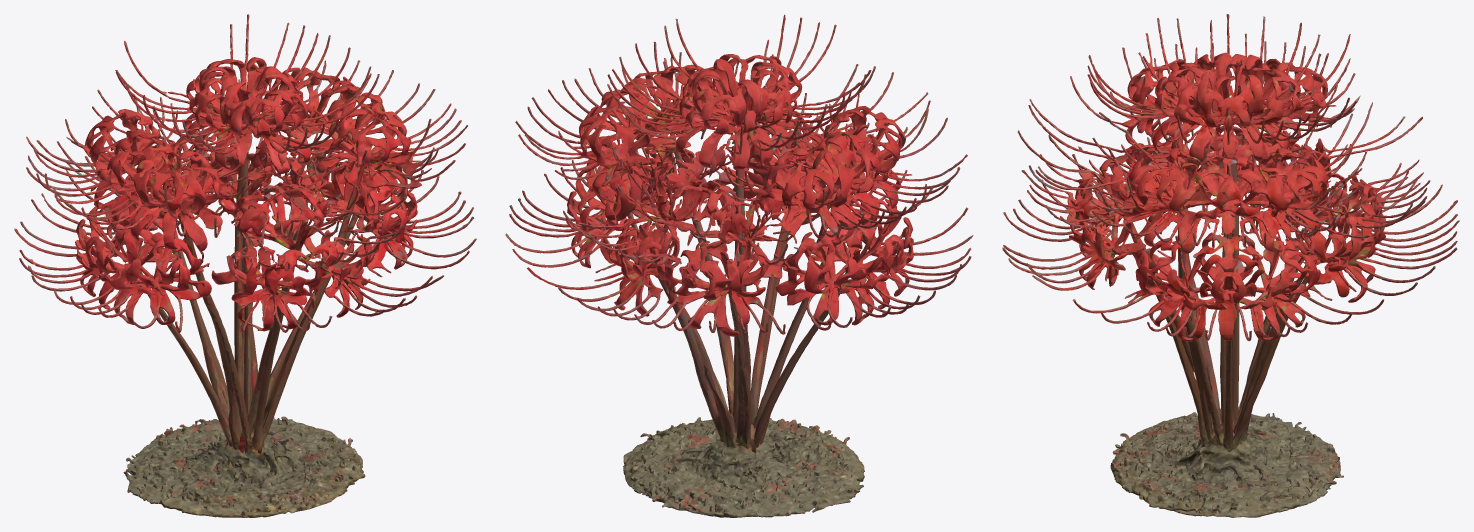
File: spider-lily-v2.glb
The picture shows the model from 3 angles, left to right: view 1: azimuth 30°, elevation 25°; view 2: azimuth 150°, elevation 25°; view 3: azimuth 270°, elevation 25°; orthographic projection.
Parts seen in each view (by area): view 1: geometry_0; view 2: geometry_0; view 3: geometry_0.
Part boxes in pixels (box(x1,y1,x2,y2)): geometry_0: box(14, 14, 476, 517); geometry_0: box(505, 14, 973, 517); geometry_0: box(1002, 14, 1459, 517).
Bounding box in the file's own units: 0.5503 × 0.52 × 0.5275.
Materials: 1 (1 with a texture image).
